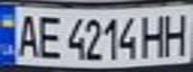1: (103, 15, 121, 61)
2: (81, 15, 106, 61)
4: (63, 12, 87, 61), (118, 12, 142, 61)
A: (12, 10, 42, 58)
E: (33, 11, 63, 60)
H: (136, 10, 169, 58), (160, 9, 193, 57)
